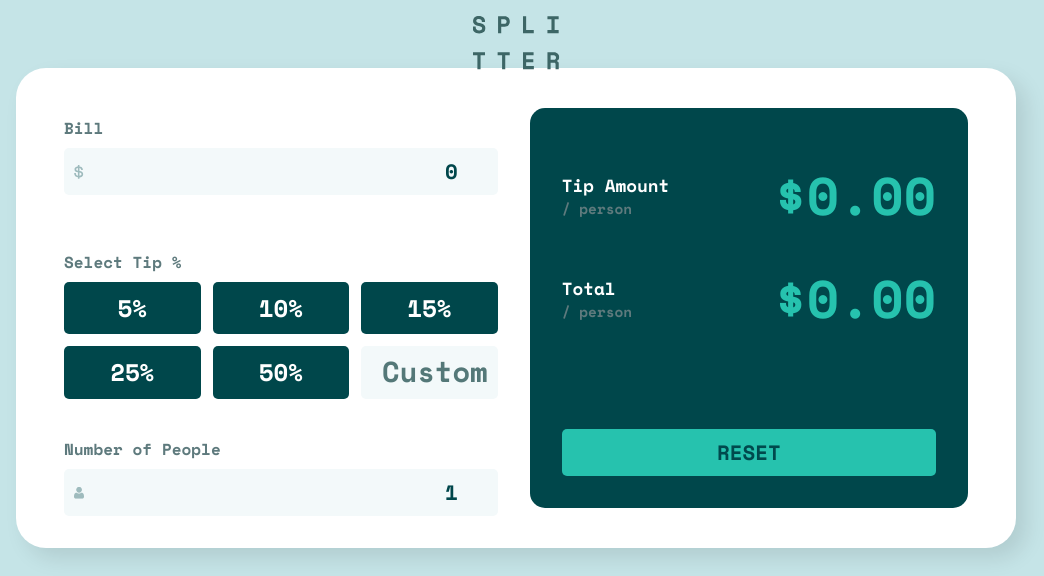
Scenario: Tip Calculator › Reset Functionality › resets all inputs and calculations when reset button is clicked
In the field labelled "Bill": (281, 172) [64,148,498,195], type "100"
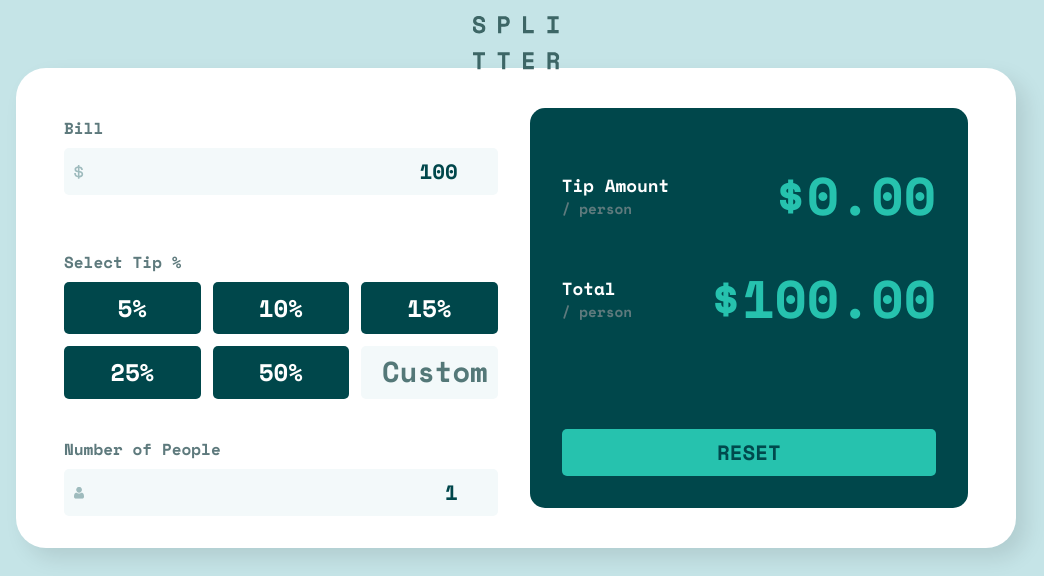
Click the button "15%": (429, 308) [361,282,498,334]
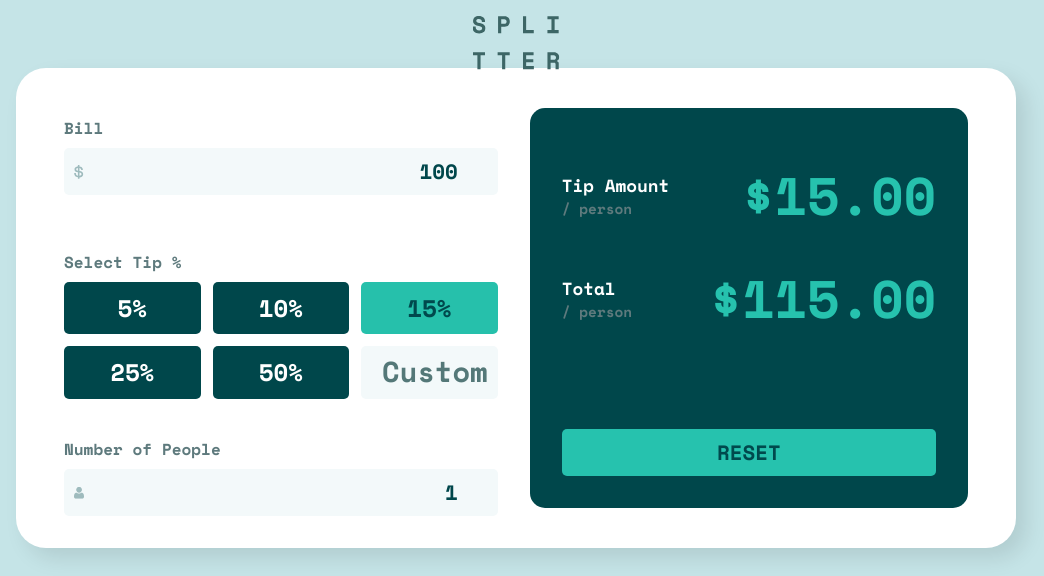
In the field labelled "Number of People": (281, 492) [64,469,498,516], type "2"
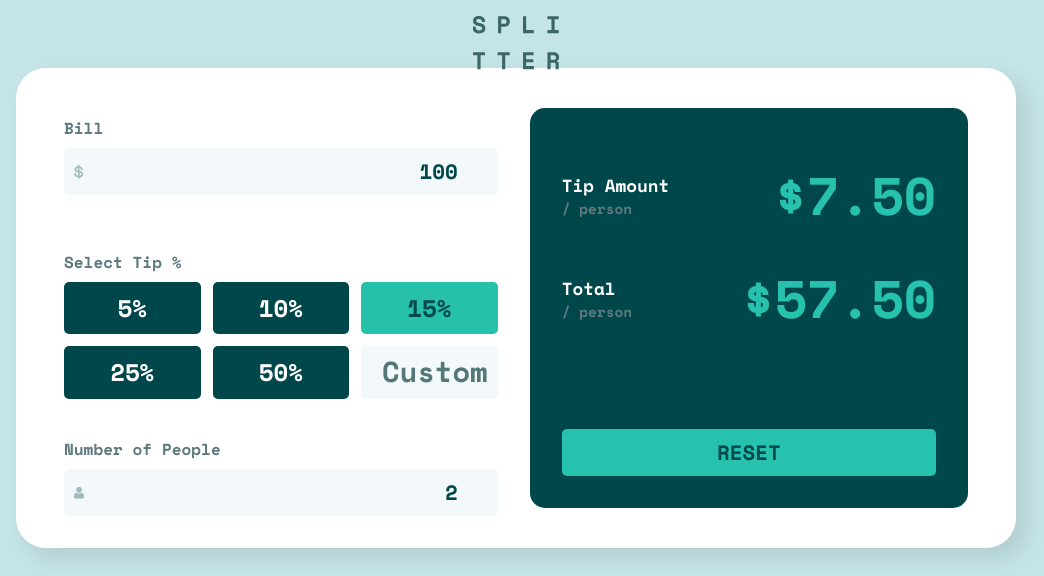
Click the button "Reset": (749, 452) [562,429,936,476]
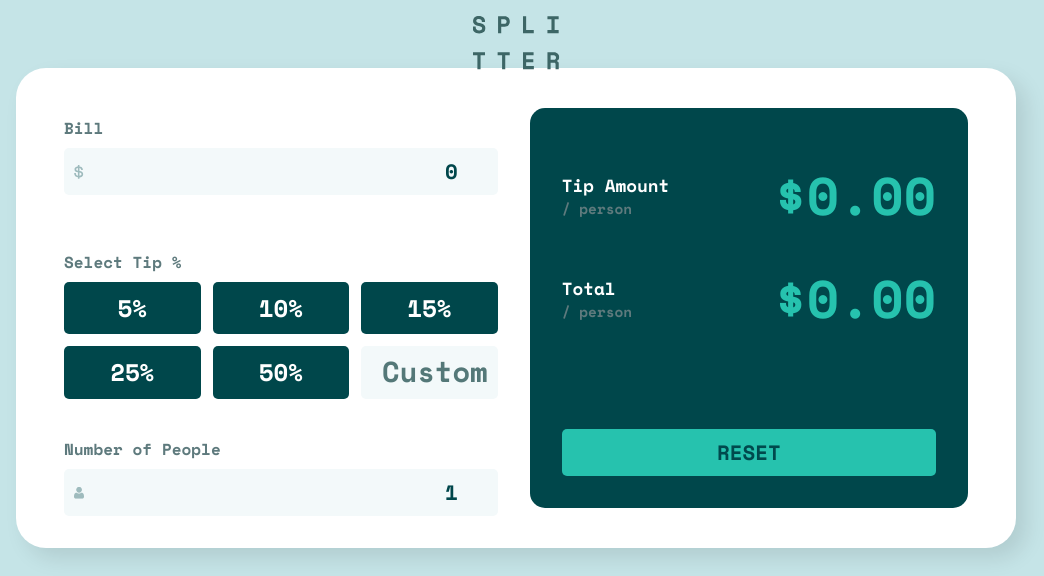
Result: the field labelled "Bill" is empty at [64,148,498,195]
Result: the field labelled "Number of People" is empty at [64,469,498,516]
Result: the text with test id "tip-amount" reads "$0.00" at [774,156,936,235]
